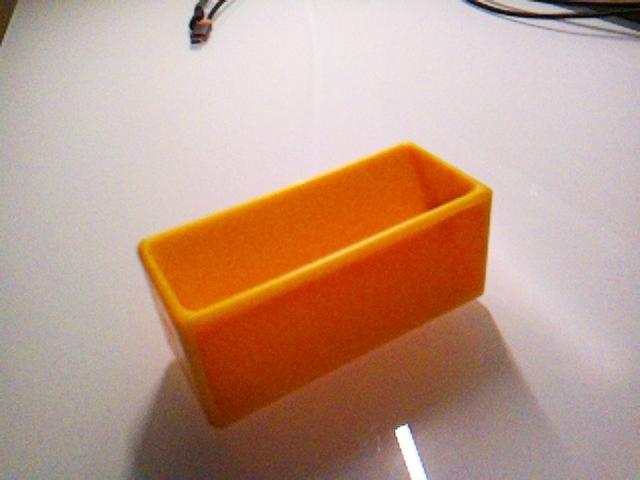yellow: (136, 139, 494, 430)
